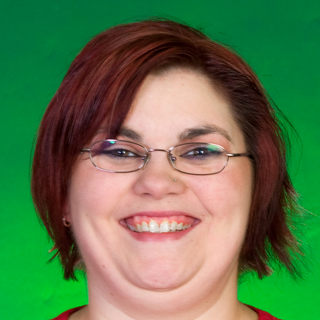eye: (97, 141, 146, 165), (175, 141, 224, 164)
